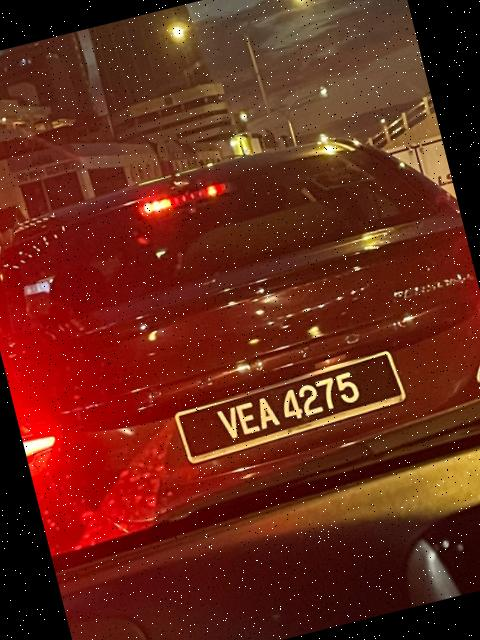License_Plate: (184, 353, 397, 451)
car: (1, 96, 480, 540)
